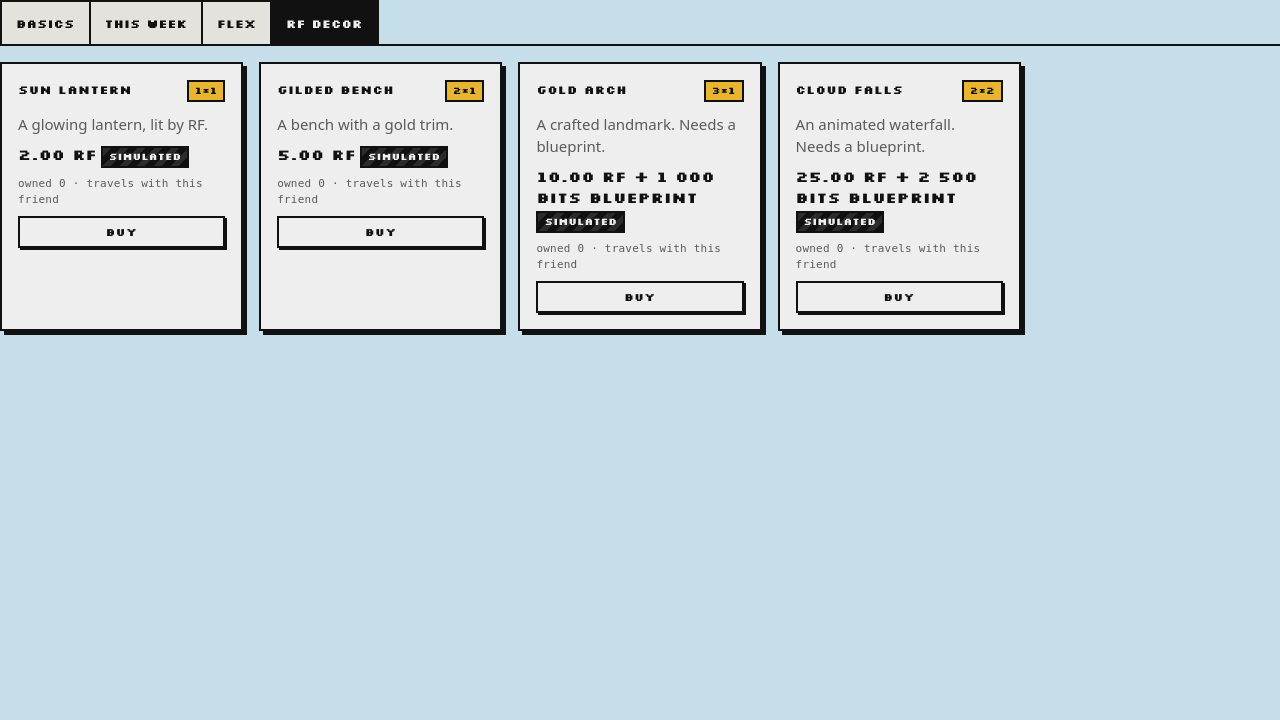
Catalog › labels RF decor SIMULATED with its split and blocks what the player can't afford
This screenshot has width=1280, height=720.
Expected: the text "SIMULATED" next to "2.00 RF" is shown, [109,150,181,163]
Click the button with aria-label "buy Sun lantern for 2.00 RF": (122, 232) [18,216,225,248]
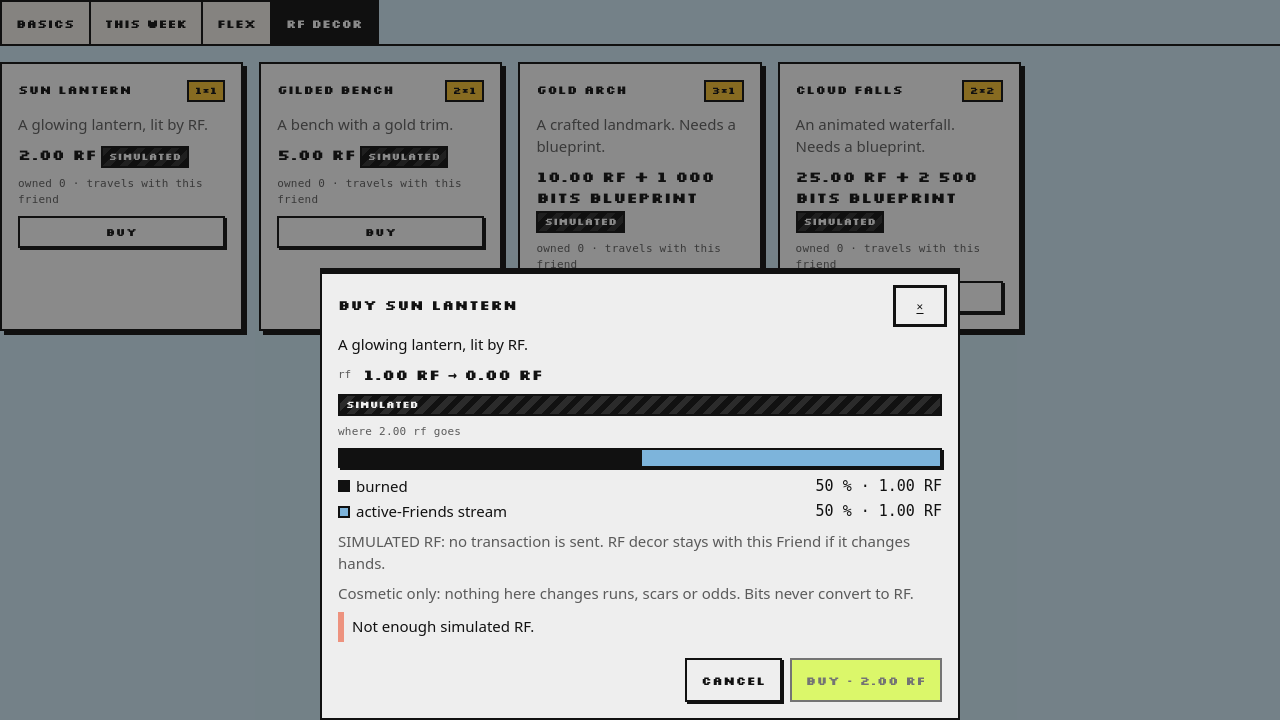
Result: the text "50 % · 1.00 RF" is shown 2 times at [816,476,942,497]; [816,501,942,523]
Result: the text "Not enough simulated RF." is shown at [338,612,942,642]
Result: the button "buy · 2.00 RF" is disabled at [790,658,942,702]
